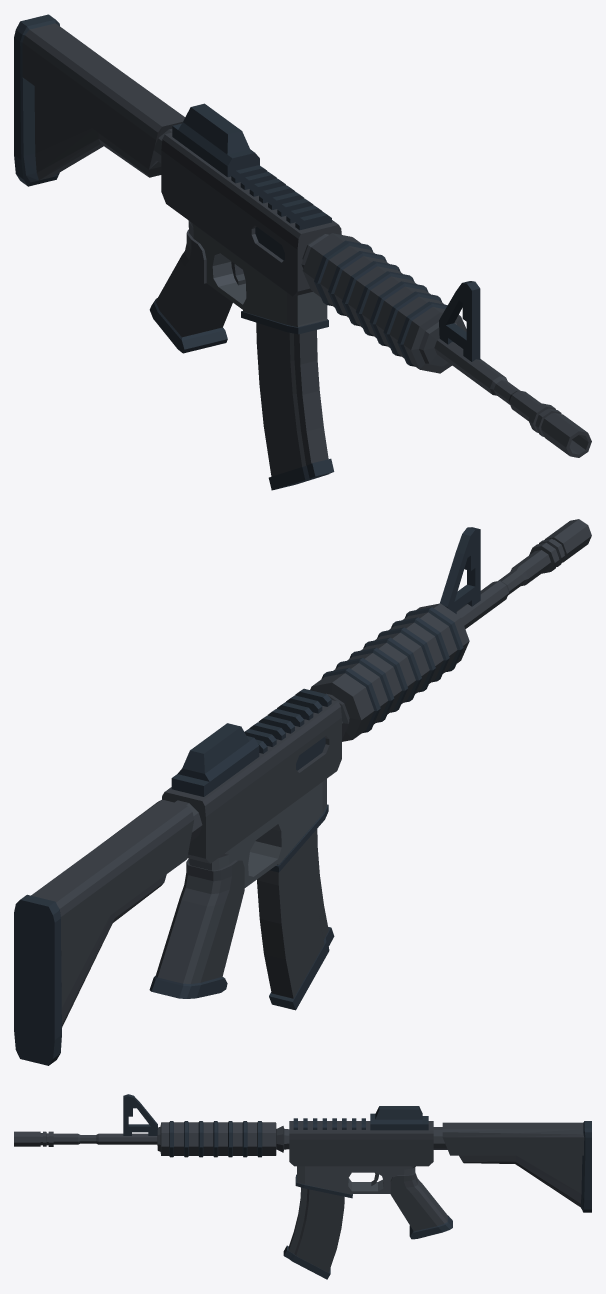
The model's file is AssaultRifle.glb.
3 views of the same model, one above another, from view 1: azimuth 30°, elevation 25°; view 2: azimuth 150°, elevation 25°; view 3: azimuth 270°, elevation 25° (orthographic). The views are drawn at different scales.
Visible parts, largest first — view 1: Main, MainDark, MainLight; view 2: Main, MainDark, MainLight; view 3: Main, MainDark, MainLight.
Part boxes in pixels (box(x1,y1,x2,y2)): Main: box(22, 23, 591, 476); MainDark: box(14, 14, 480, 490); MainLight: box(188, 220, 327, 327); Main: box(31, 519, 591, 1027); MainDark: box(14, 527, 480, 1065); MainLight: box(188, 779, 326, 887); Main: box(14, 1121, 584, 1272); MainDark: box(123, 1094, 591, 1279); MainLight: box(297, 1166, 415, 1194).
Bounding box in the file's own units: 0.0758 × 0.3919 × 1.13.
